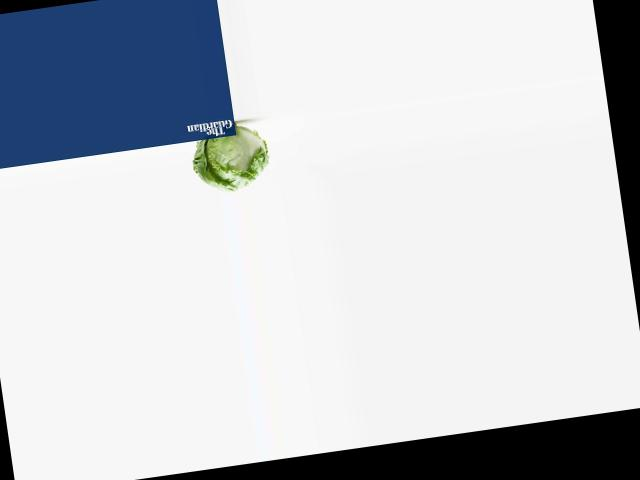lettuce: (190, 122, 272, 199)
